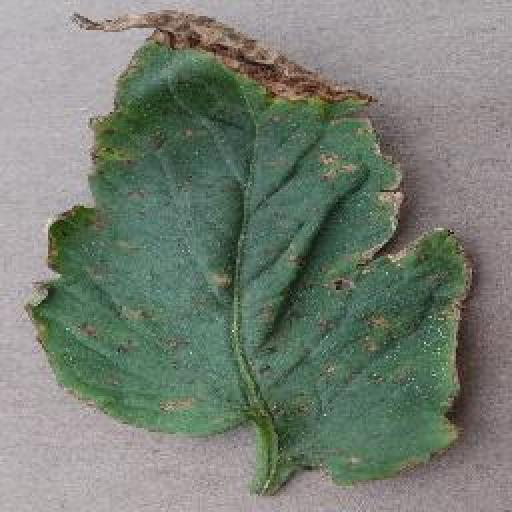Bacterial Spot: (22, 5, 474, 492)
